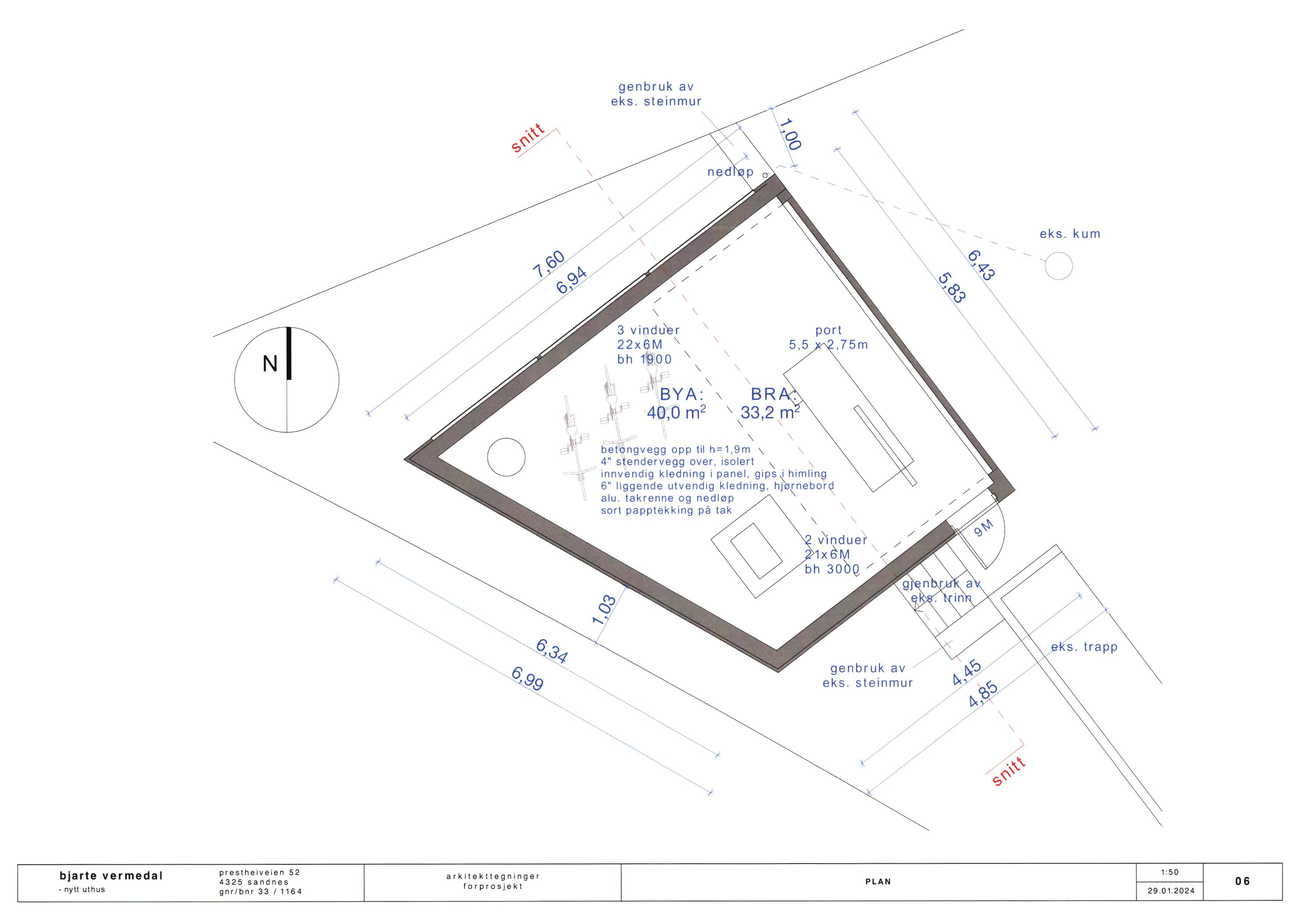plantegning: (402, 170, 1017, 662)
